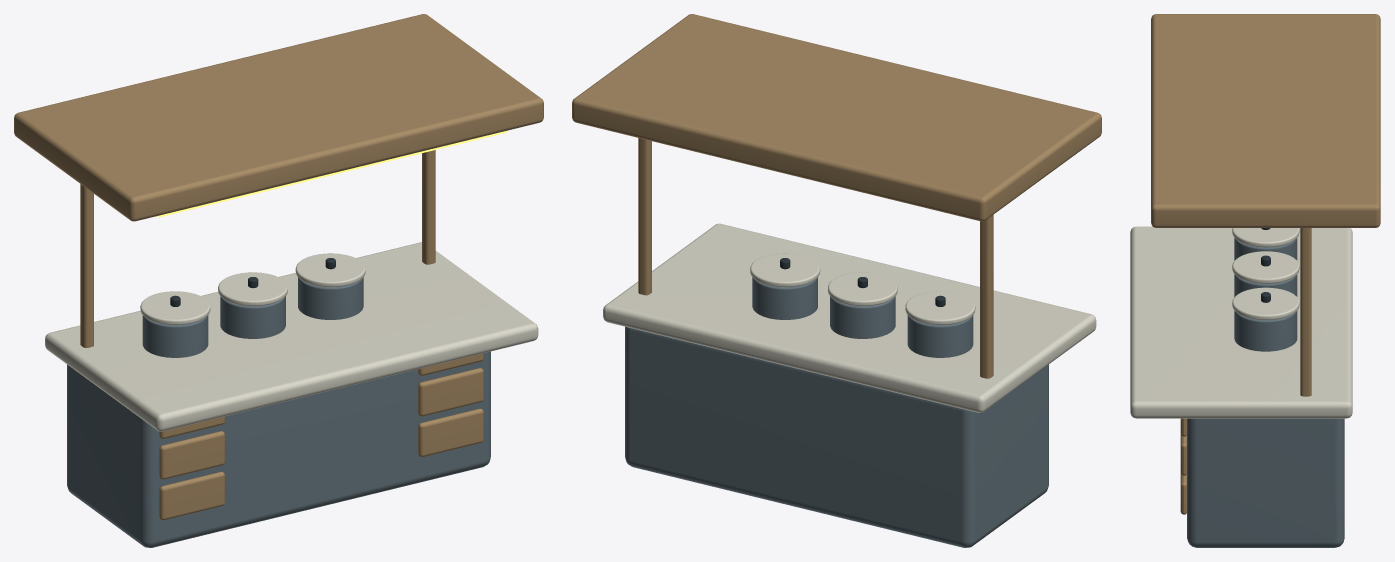
The model's file is stall.glb.
3 views of the same model, side by side, from view 1: azimuth 30°, elevation 25°; view 2: azimuth 150°, elevation 25°; view 3: azimuth 270°, elevation 25° (orthographic). The views are drawn at different scales.
Parts seen in each view (by area): view 1: stall_bronze, stall_metal, stall_ivory, stall_amber; view 2: stall_metal, stall_bronze, stall_ivory; view 3: stall_bronze, stall_ivory, stall_metal.
Part boxes in pixels (x1,y1,x2,y2): stall_bronze: (14,14,543,520); stall_metal: (67,277,490,547); stall_ivory: (45,242,538,431); stall_amber: (157,130,507,217); stall_metal: (625,277,1048,547); stall_bronze: (572,14,1101,378); stall_ivory: (603,223,1096,412); stall_bronze: (1151,14,1380,514); stall_ivory: (1130,226,1352,418); stall_metal: (1187,238,1344,547).
Size of the model in its own units: 3.2 by 2.77 by 1.74.
